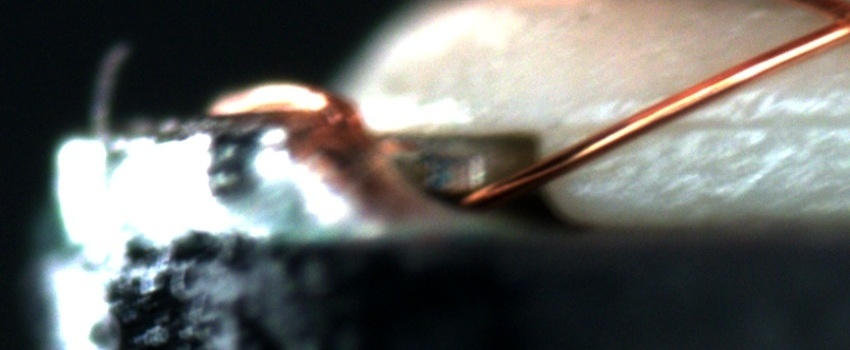CL: (806, 2, 849, 44)
DL: (544, 100, 849, 150)
TE: (188, 77, 374, 126)
